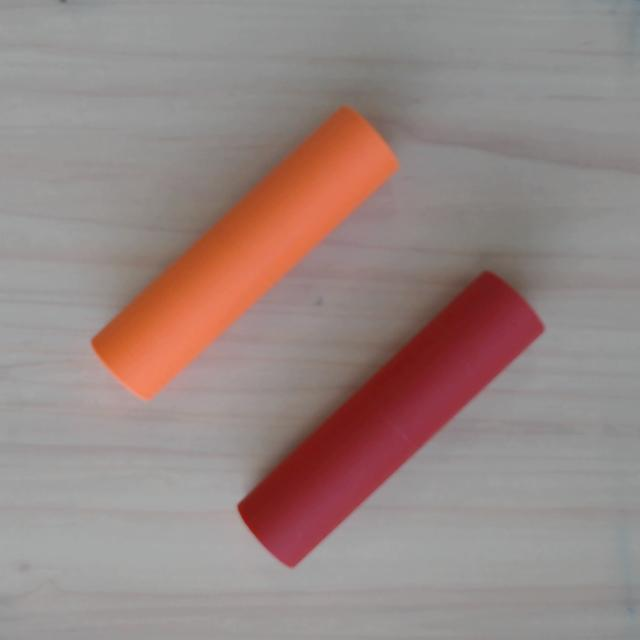Silinder-Jingga-10025: (85, 100, 405, 406)
Silinder-Merah-10025: (230, 264, 549, 571)
